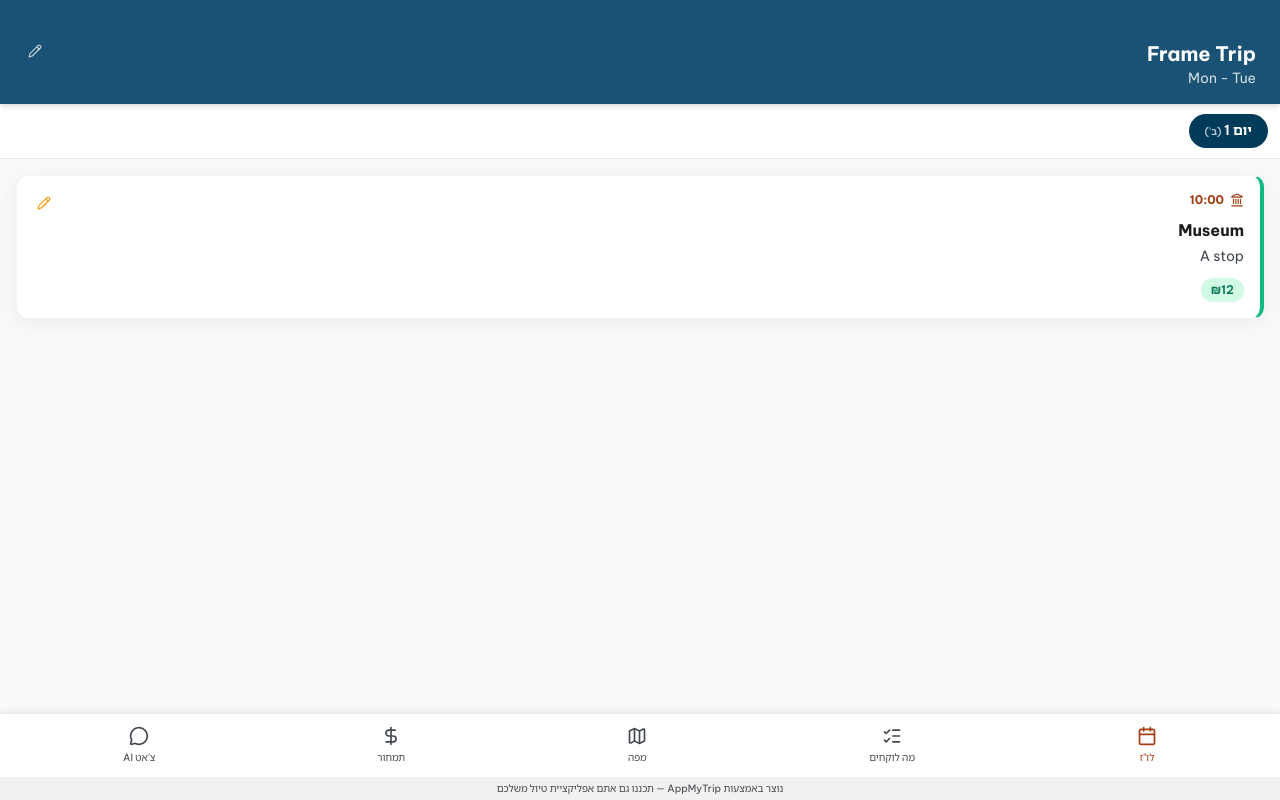
Test: AppFrame › renders the trip header and switches between itinerary and price tabs
Check: the heading "Frame Trip" is shown, box 1147,40 -> 1256,68
Check: the heading "Museum" is shown, box 1178,220 -> 1244,240
Click the button "תמחור": (391, 746) 377,726 -> 405,765
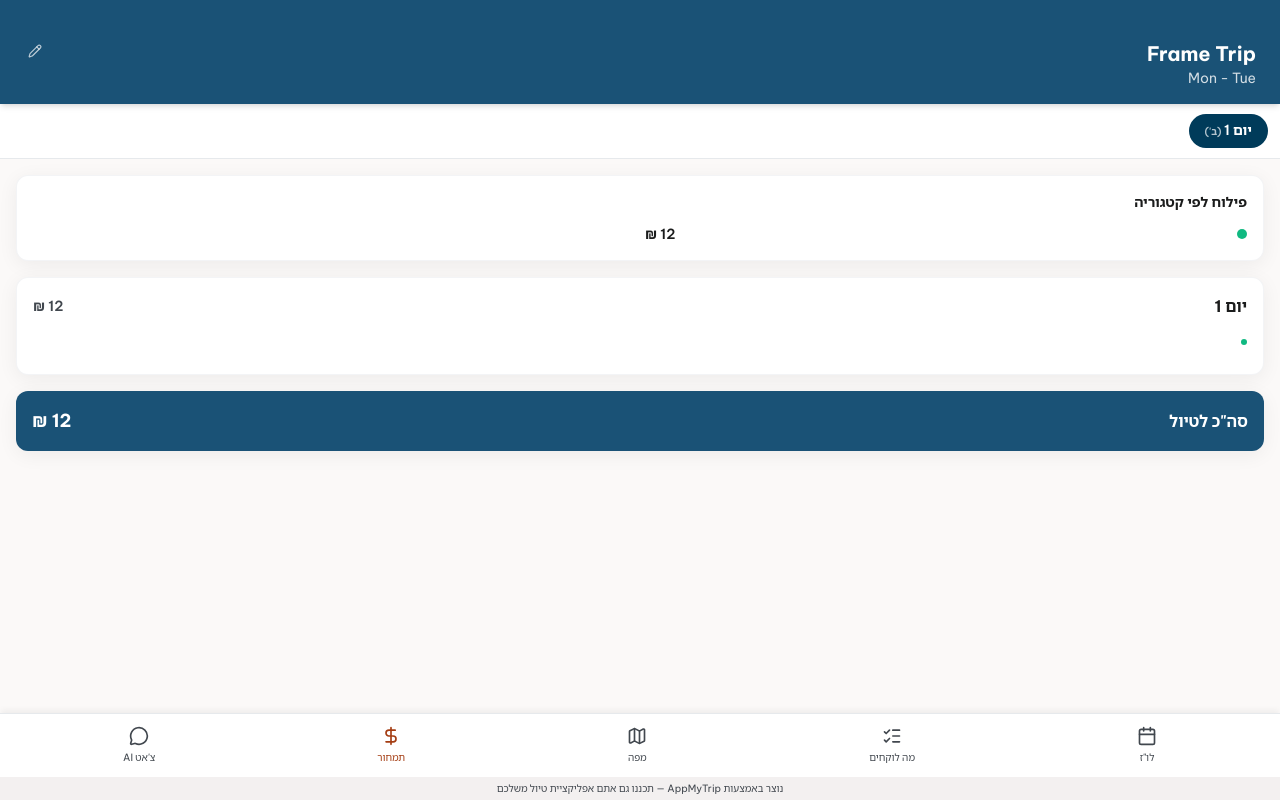
Check: the text "סה\"כ לטיול" is shown, box 1169,409 -> 1248,433
